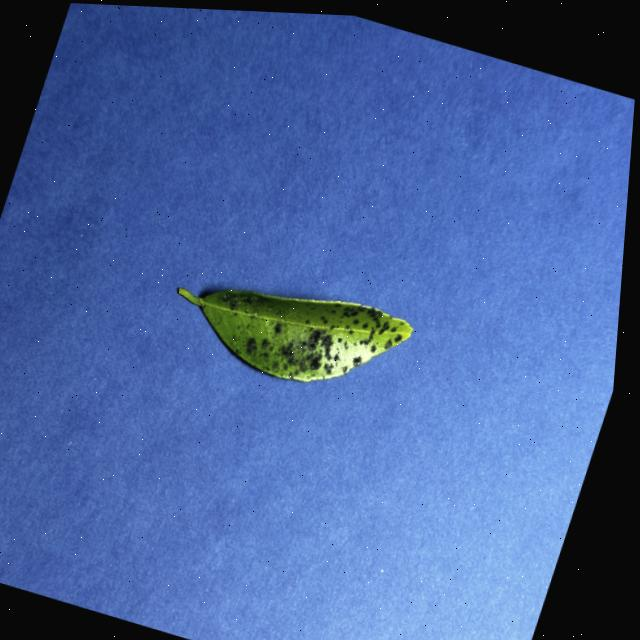sooty_mold: (178, 287, 412, 380)
